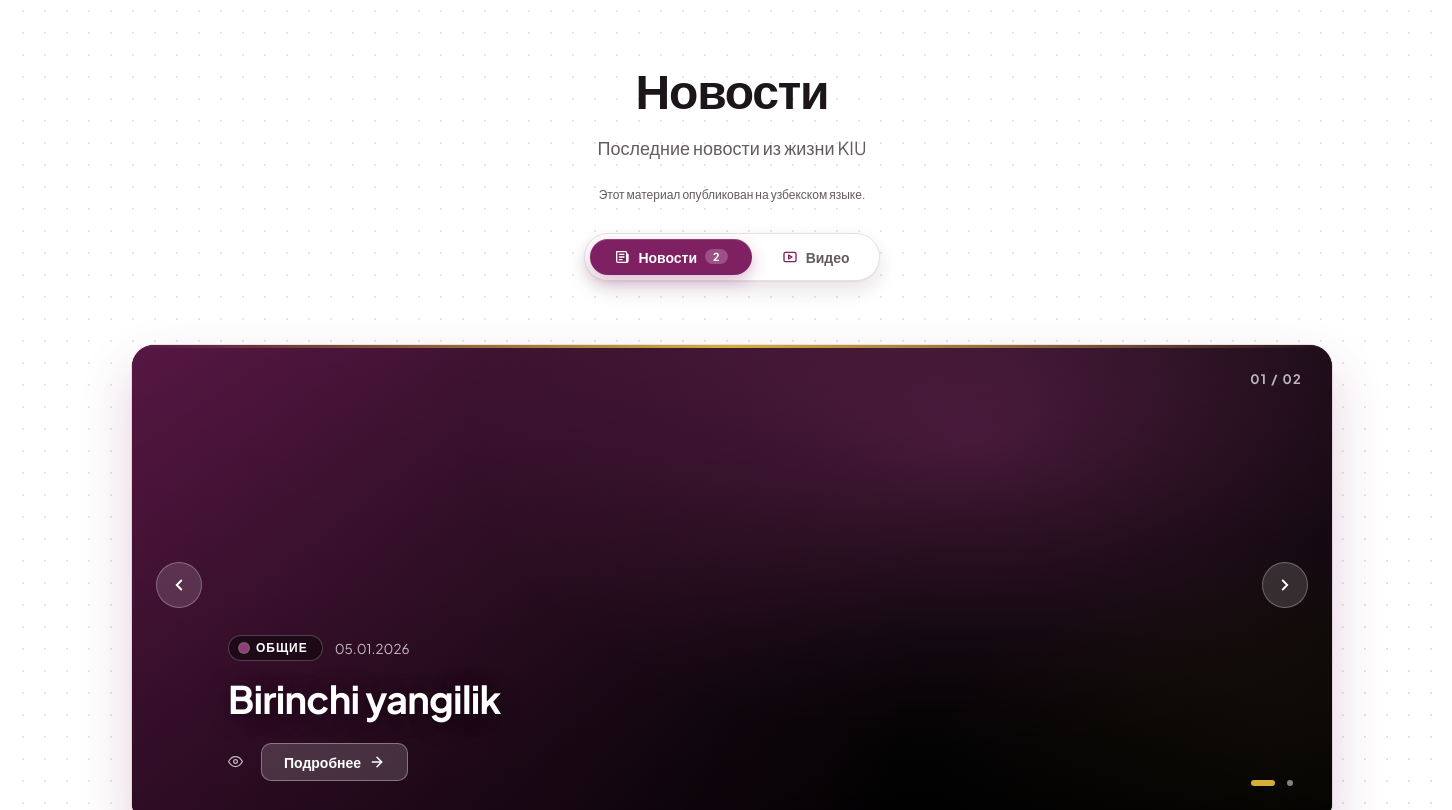
Bazadan keladigan sahifalar (RU): interfeys ruscha, kontent o'zbekcha › News: kategoriya ruscha, sarlavha lang=uz, izoh bor; batafsil tugmasi /ru/news/:id ga olib boradi
Expected: the text "Этот материал опубликован на узбекском языке." is shown, x1=599 y1=185 x2=865 y2=205
Expected: the text "Общие" is shown, x1=228 y1=635 x2=323 y2=661
Click the button "Подробнее": (335,762) x1=261 y1=743 x2=408 y2=781
(page scrolled)
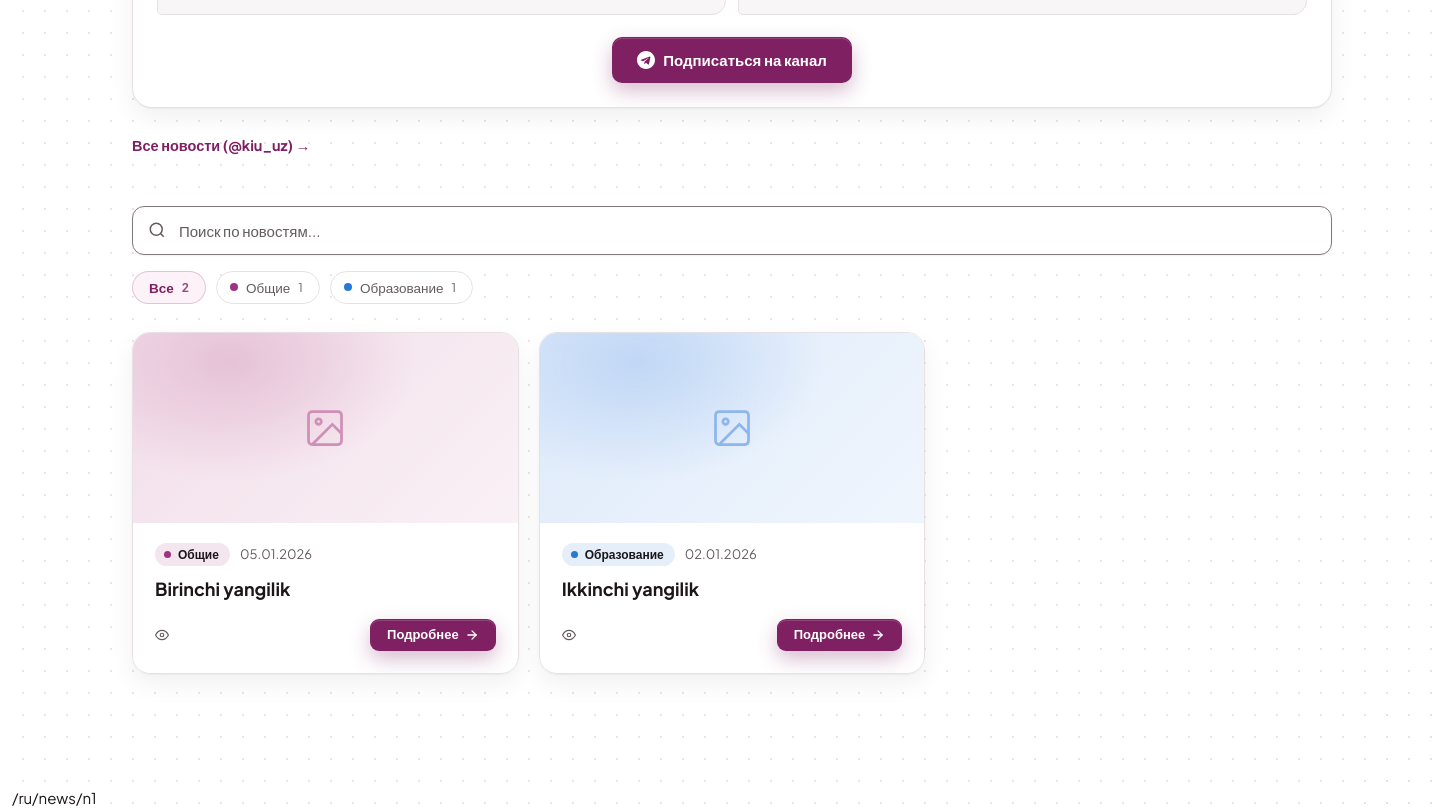
Result: the text with test id "loc" reads "/ru/news/n1" at x1=12 y1=788 x2=96 y2=807
